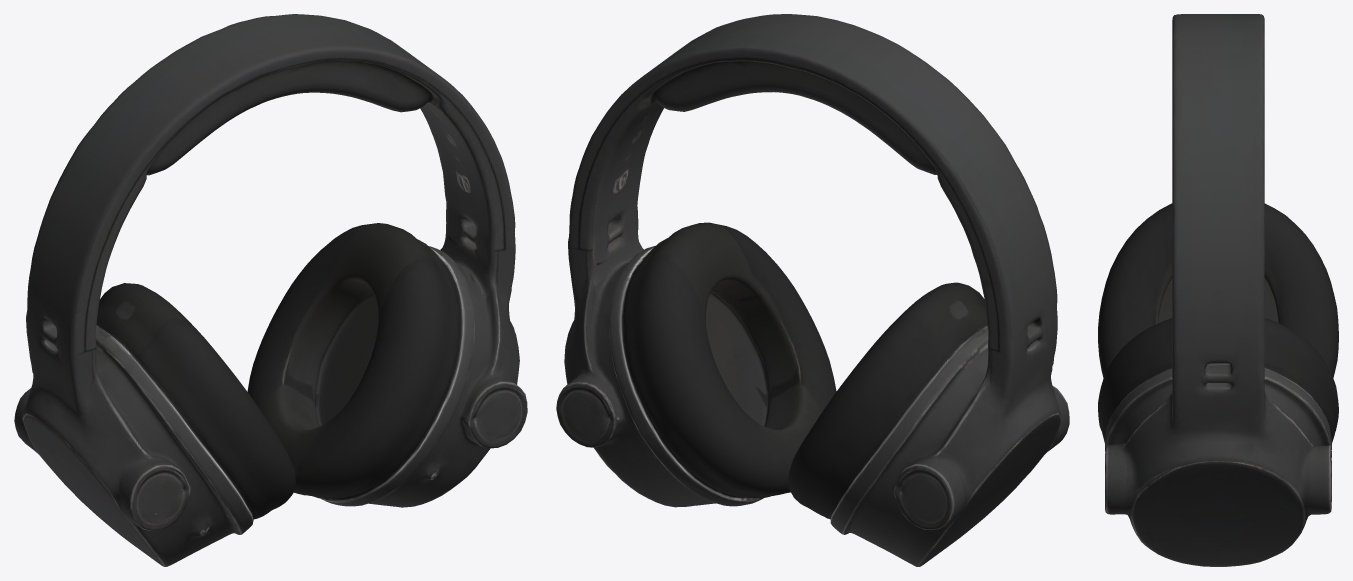
3 views of the same model, side by side, from view 1: azimuth 30°, elevation 25°; view 2: azimuth 150°, elevation 25°; view 3: azimuth 270°, elevation 25° (orthographic). The views are drawn at different scales.
Visible parts, largest first — view 1: model__0; view 2: model__0; view 3: model__0.
Part boxes in pixels (<box>): model__0: <box>14,14,527,566</box>; model__0: <box>556,14,1069,566</box>; model__0: <box>1098,14,1338,566</box>.
Bounding box in the file's own units: 1.85 × 1.91 × 0.8772.
1 material, 1 textured.
